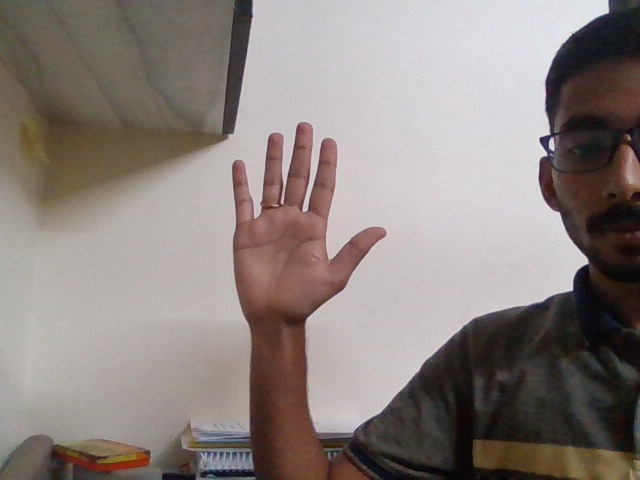Hello: (214, 111, 401, 366)
